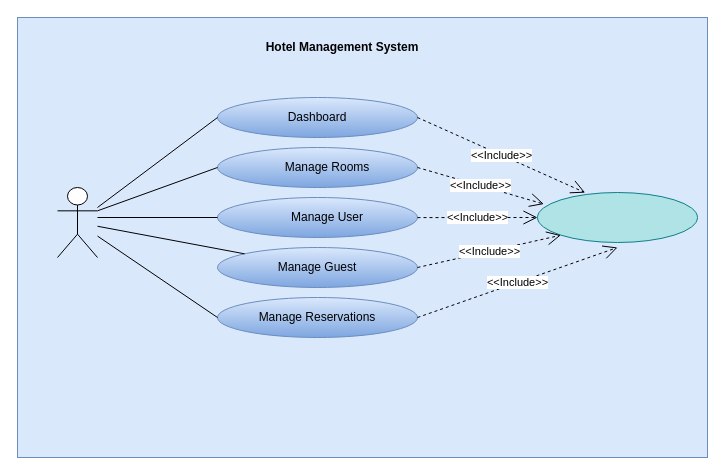
Image size: 725x475. Some labels were removed from this diagram. The shapes that lost their labels are listed below. From the top down, each one's centre as x and y in pixels, then its label:
point 77,222: Admin
point 617,217: Authentication
